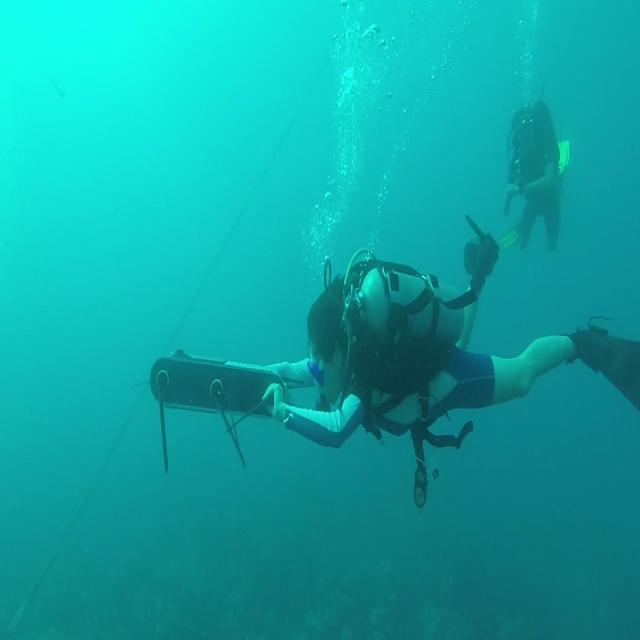human: (261, 216, 638, 508), (498, 95, 570, 252)
